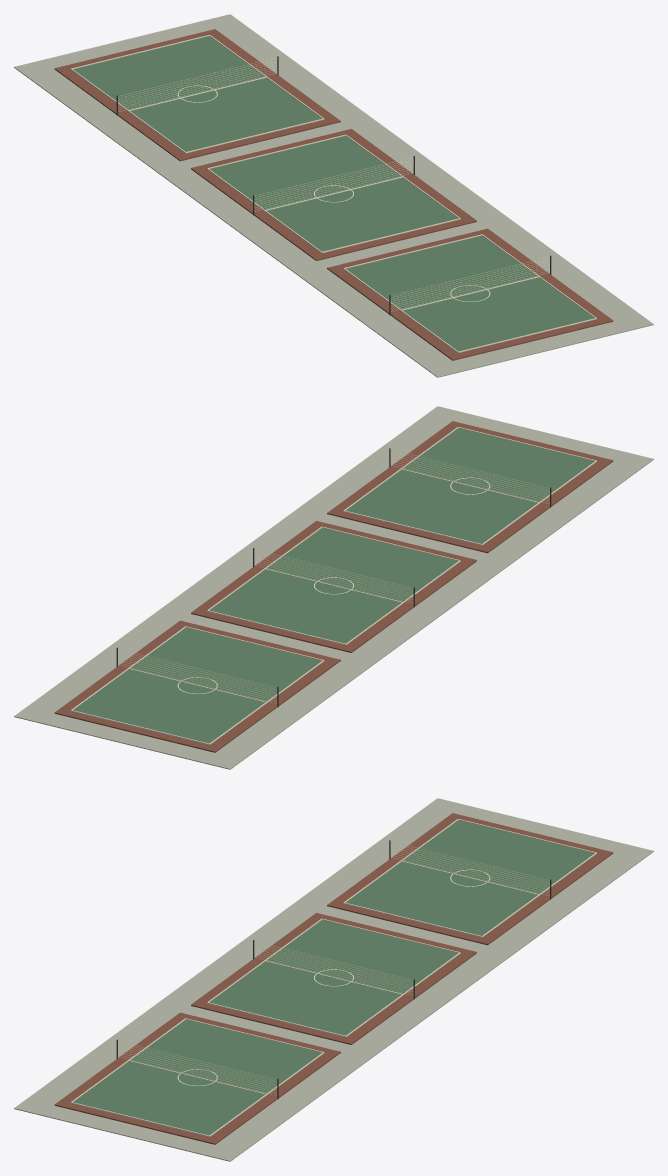
Rendered from volley_C_west.glb.
3 views of the same model, one above another, from view 1: azimuth 30°, elevation 25°; view 2: azimuth 150°, elevation 25°; view 3: azimuth 330°, elevation 25° (orthographic).
Visible parts, largest first — view 1: PavedSurround, Court_3_CourtInfield, Court_1_CourtInfield, Court_2_CourtInfield, Court_3_CourtRed, Court_1_CourtRed, Court_2_CourtRed, Court_1_CourtLines, Court_3_CourtLines, Court_2_CourtLines, Court_1_NetMesh, Court_2_NetMesh (+1 smaller); view 2: PavedSurround, Court_1_CourtInfield, Court_3_CourtInfield, Court_2_CourtInfield, Court_1_CourtRed, Court_3_CourtRed, Court_2_CourtRed, Court_1_CourtLines, Court_3_CourtLines, Court_2_CourtLines, Court_3_NetMesh, Court_2_NetMesh (+1 smaller); view 3: PavedSurround, Court_3_CourtInfield, Court_1_CourtInfield, Court_2_CourtInfield, Court_3_CourtRed, Court_1_CourtRed, Court_2_CourtRed, Court_1_CourtLines, Court_3_CourtLines, Court_2_CourtLines, Court_1_NetMesh, Court_2_NetMesh (+1 smaller).
Boxes of the visible parts, x1,y1,x2,y2 form: PavedSurround: (14,14,653,377); Court_3_CourtInfield: (346,235,594,351); Court_1_CourtInfield: (73,36,322,151); Court_2_CourtInfield: (209,135,458,251); Court_3_CourtRed: (327,228,613,360); Court_1_CourtRed: (54,29,340,161); Court_2_CourtRed: (191,129,476,260); Court_1_CourtLines: (71,35,324,153); Court_3_CourtLines: (343,234,596,352); Court_2_CourtLines: (207,134,460,252); Court_1_NetMesh: (118,57,277,111); Court_2_NetMesh: (254,157,413,211); PavedSurround: (14,406,653,769); Court_1_CourtInfield: (73,627,321,743); Court_3_CourtInfield: (345,428,594,543); Court_2_CourtInfield: (209,527,458,643); Court_1_CourtRed: (54,620,340,752); Court_3_CourtRed: (327,421,613,553); Court_2_CourtRed: (191,521,476,652); Court_1_CourtLines: (71,626,324,744); Court_3_CourtLines: (343,427,596,545); Court_2_CourtLines: (207,526,460,644); Court_3_NetMesh: (390,449,549,503); Court_2_NetMesh: (254,549,413,603); PavedSurround: (14,798,653,1161); Court_3_CourtInfield: (73,1019,321,1135); Court_1_CourtInfield: (345,820,594,935); Court_2_CourtInfield: (209,919,458,1035); Court_3_CourtRed: (54,1012,340,1144); Court_1_CourtRed: (327,813,613,945); Court_2_CourtRed: (191,913,476,1044); Court_1_CourtLines: (343,819,596,937); Court_3_CourtLines: (71,1018,324,1136); Court_2_CourtLines: (207,918,460,1036); Court_1_NetMesh: (390,841,549,895); Court_2_NetMesh: (254,941,413,995).
Size of the model in its own units: 25.29 by 2.3 by 85.8.
